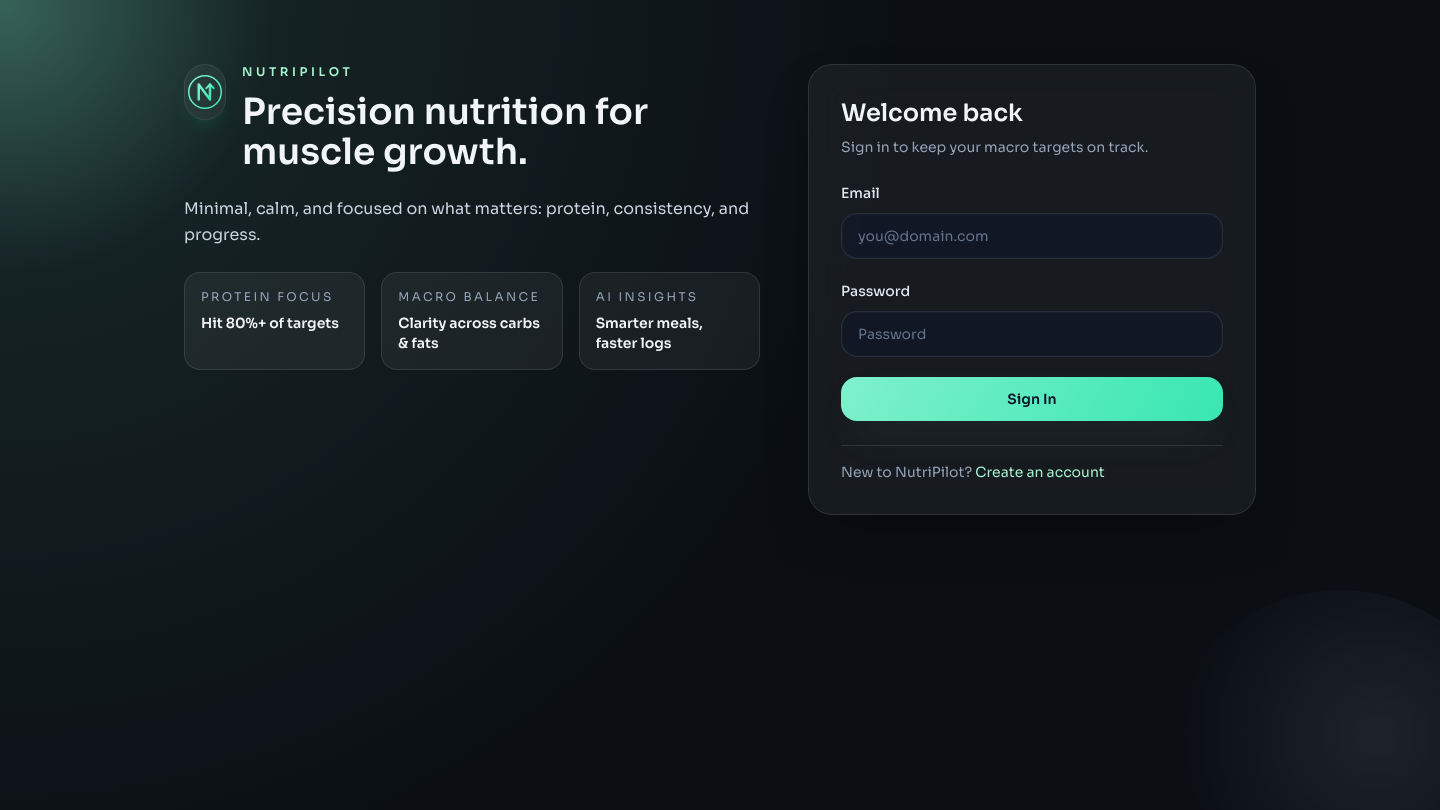
Scenario: LoginForm › shows validation error for invalid email
Type "invalid-email" into the field labelled "Email". click: (1032, 236)
box: [841,213,1223,259]
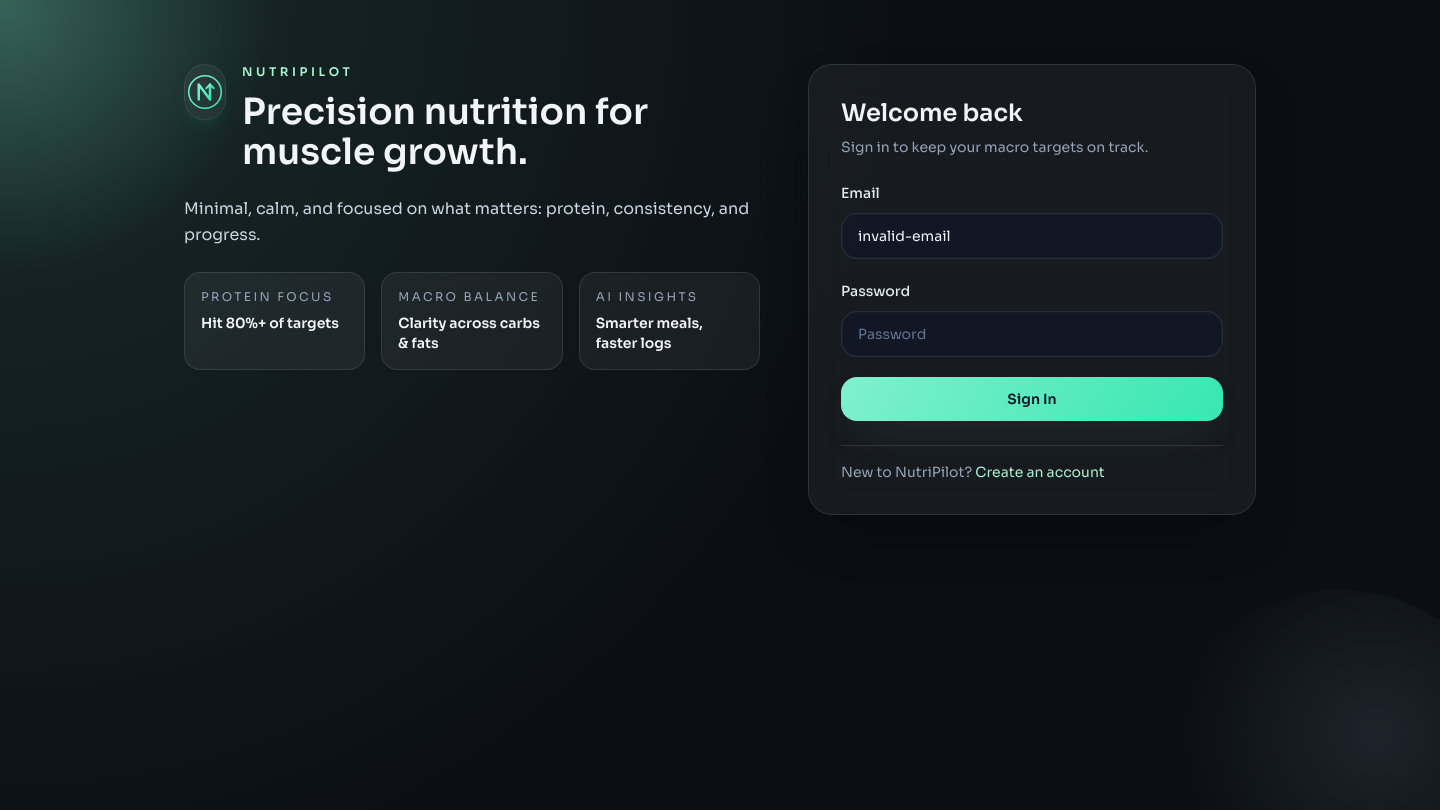
Type "StrongPass1" into the password field labelled "Password". click: (1032, 334)
box: [841,311,1223,357]
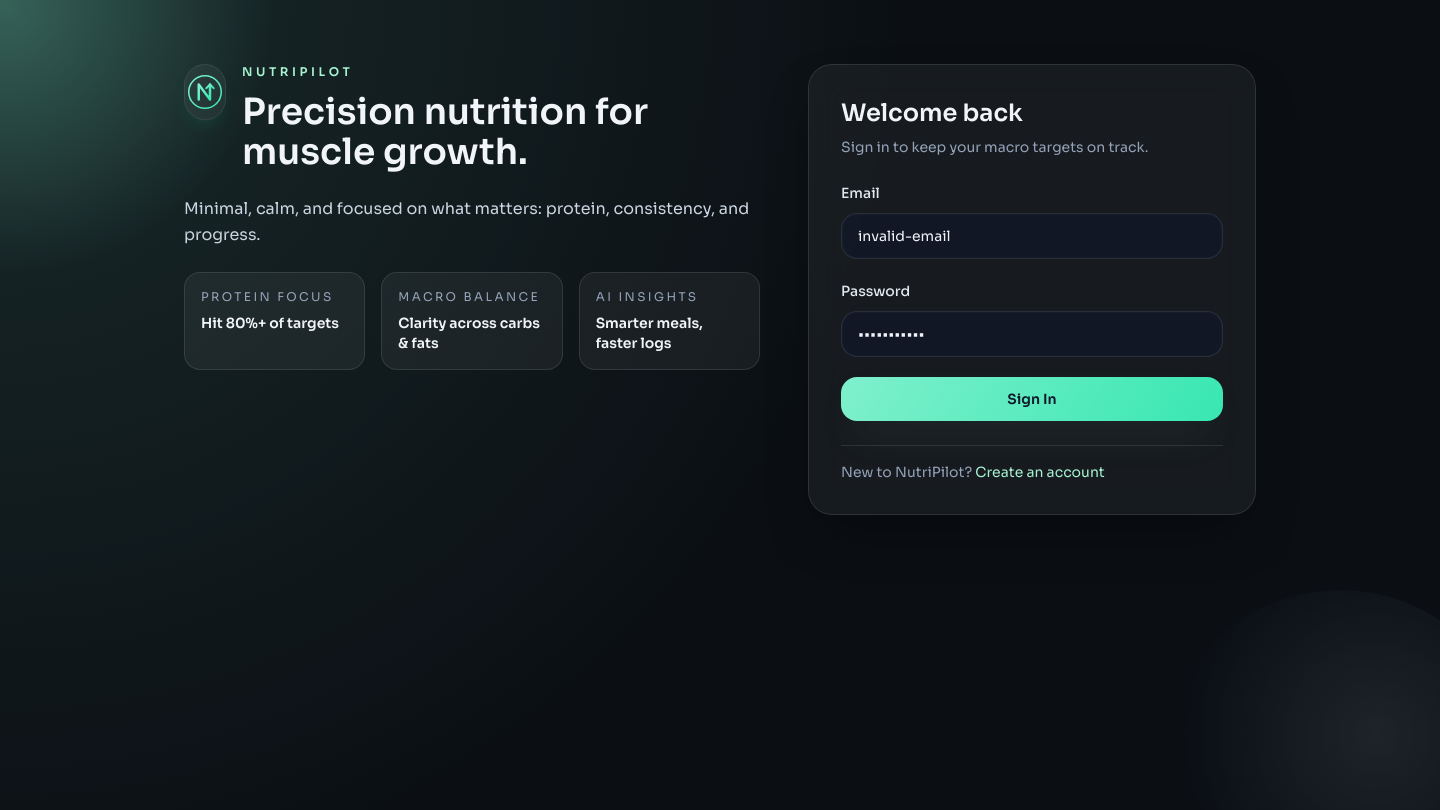
Click the button "Sign In". click: (1032, 399)
box: [841,377,1223,421]
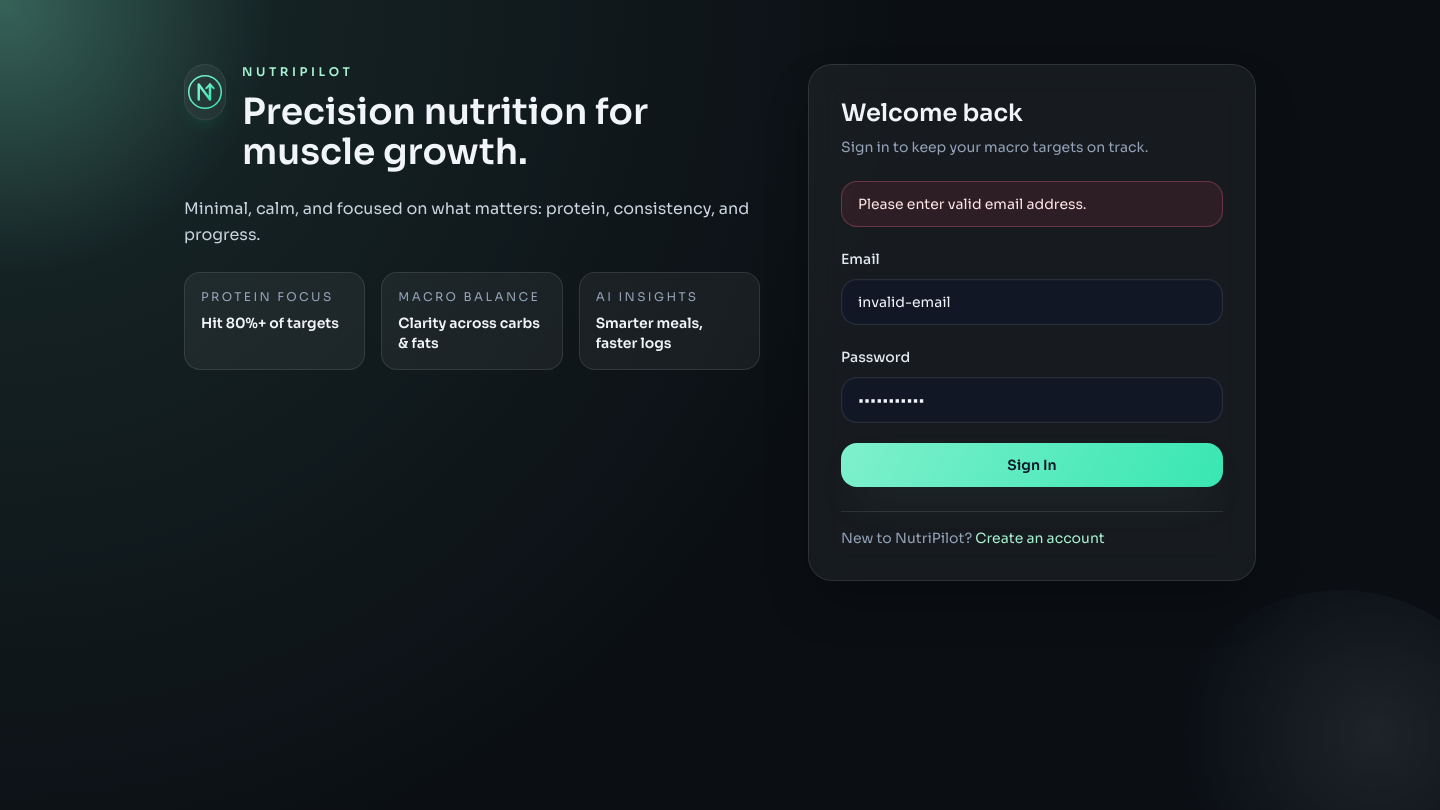
Expected: the text "Please enter valid email address." is shown, [841,181,1223,227]
